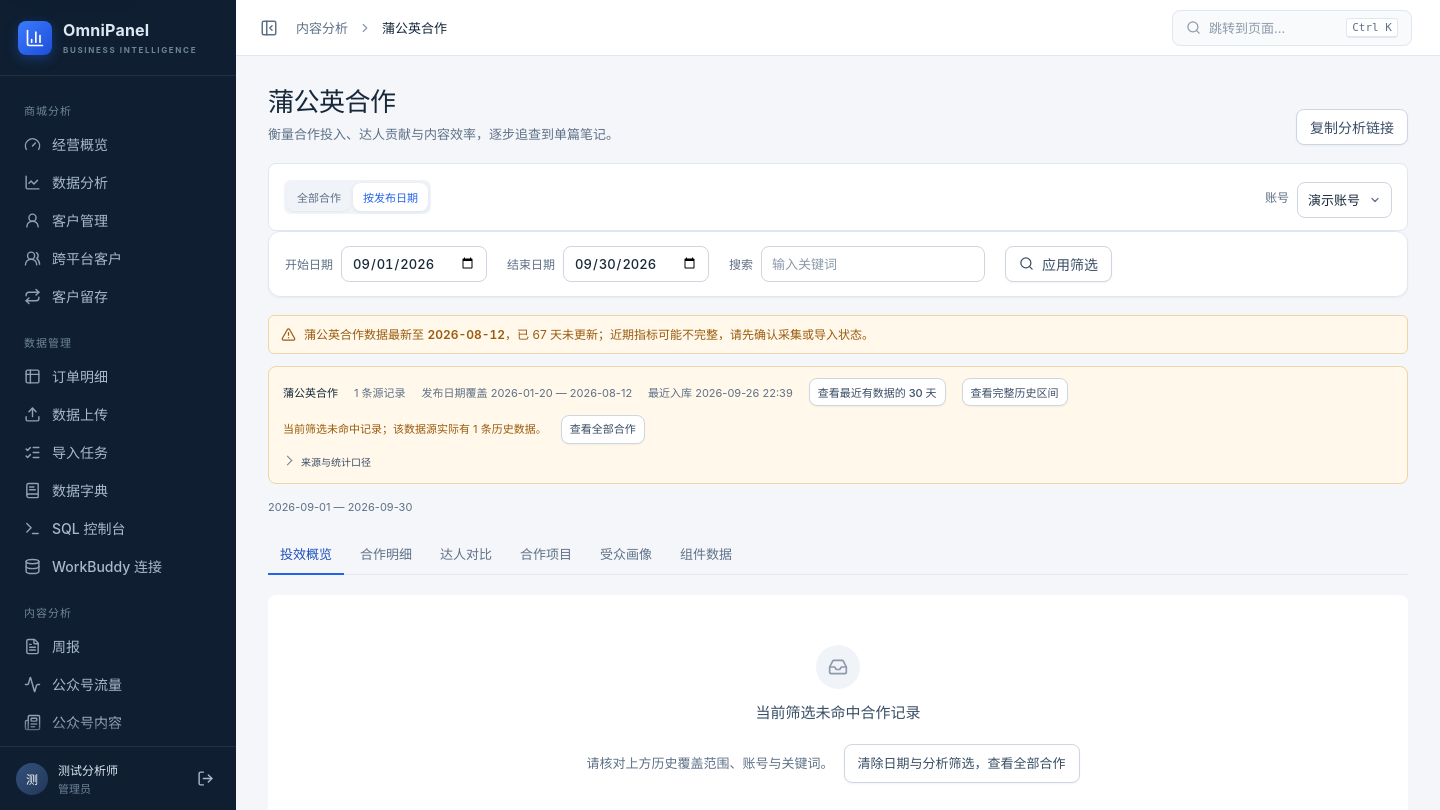
Test: migrated workspace pages › explains Pgy date exclusion and restores history without losing account scope
Check: the text "当前筛选未命中记录；该数据源实际有 1 条历史数据。" is shown, box x1=283 y1=420 x2=547 y2=439
Click the button "查看全部合作".
click(603, 429)  # box x1=561 y1=415 x2=645 y2=444
(page scrolled)
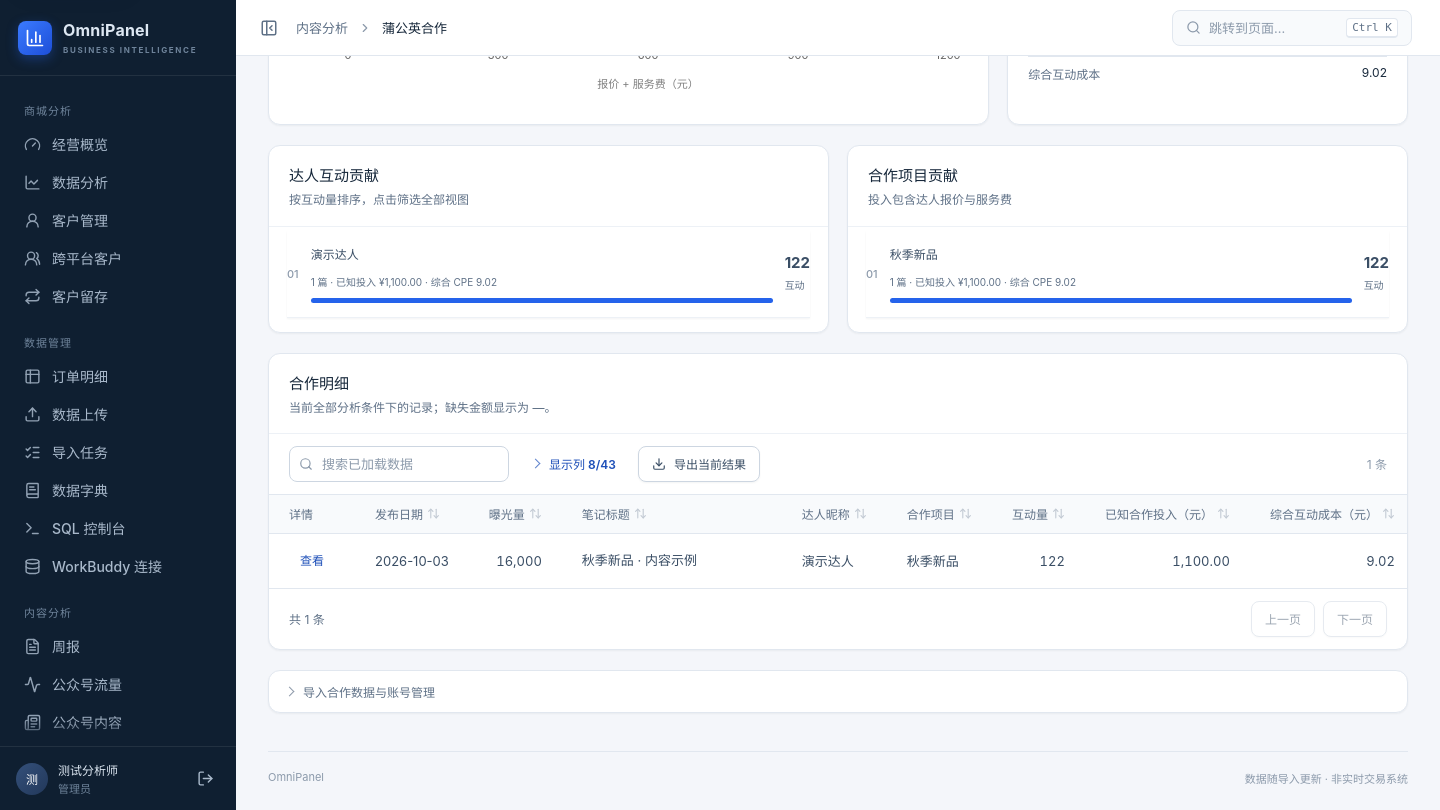
Check: the table named "合作笔记" is shown, box x1=269 y1=495 x2=1407 y2=588
